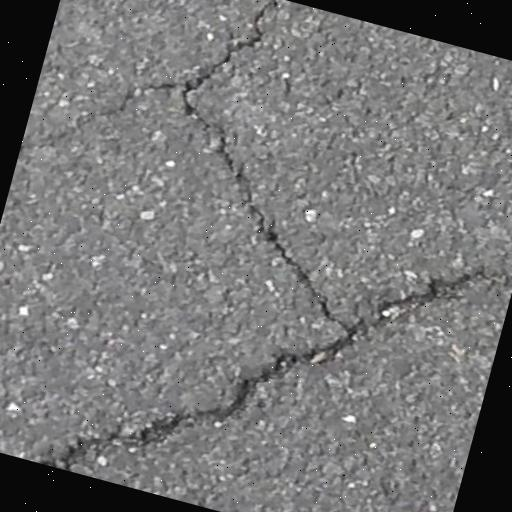spalling: (40, 258, 490, 471), (168, 0, 337, 312)
